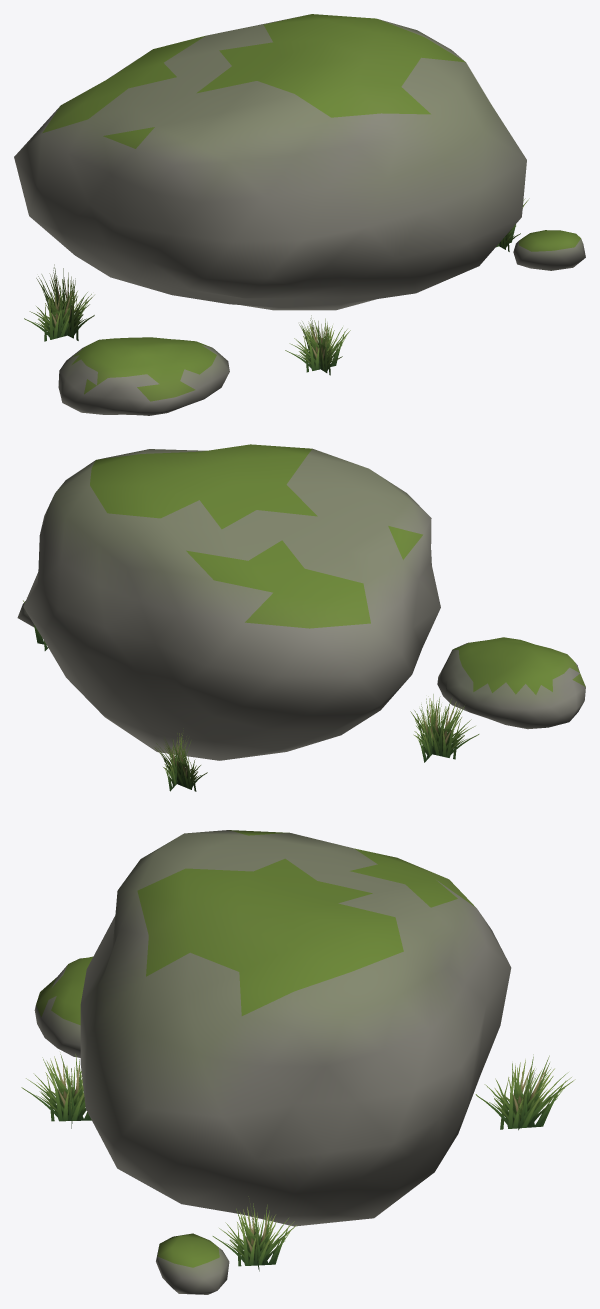
The model's file is rock_c.glb.
The picture shows the model from 3 angles, top to bottom: view 1: azimuth 30°, elevation 25°; view 2: azimuth 150°, elevation 25°; view 3: azimuth 270°, elevation 25°; orthographic projection. The views are drawn at different scales.
Parts seen in each view (by area): view 1: rock_c_mesh; view 2: rock_c_mesh; view 3: rock_c_mesh.
Part boxes in pixels (bbox=[...]): rock_c_mesh: bbox=[14, 14, 585, 415]; rock_c_mesh: bbox=[17, 444, 585, 791]; rock_c_mesh: bbox=[21, 830, 575, 1294].
Bounding box in the file's own units: 2.85 × 1.32 × 2.26.
3 materials, 1 textured.
